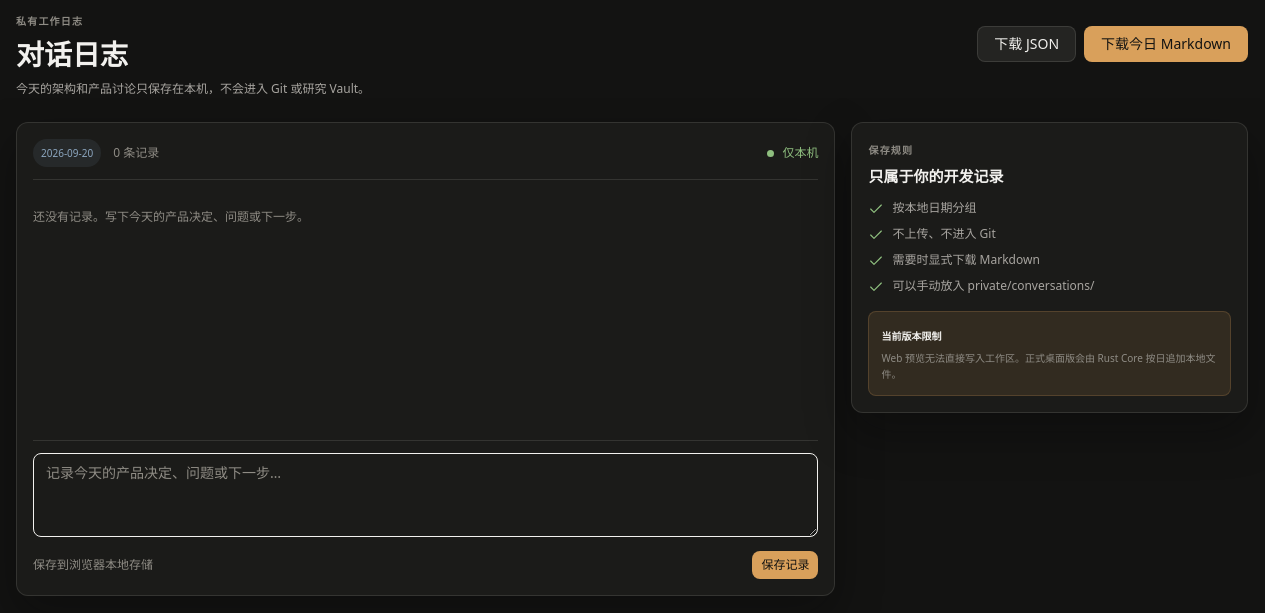
JournalPage › adds an entry through the form and updates the list
In the text box named "日志内容": (426, 495) [33,453,818,537], type "先做概览页"
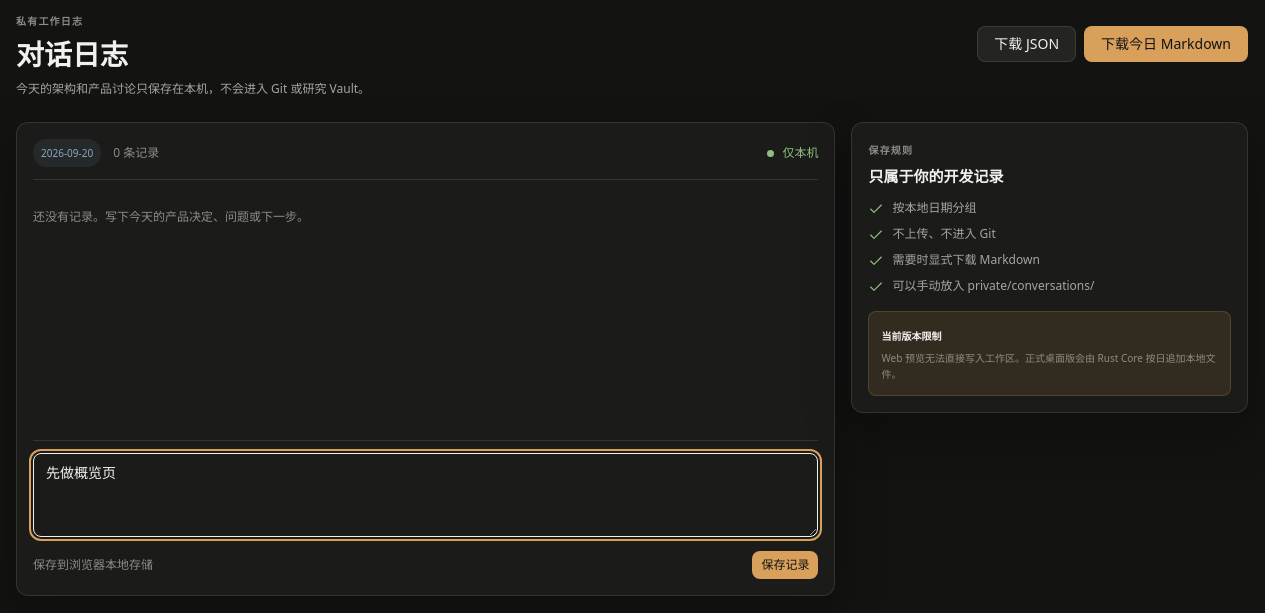
Click the button "保存记录": (786, 565) [752,551,818,579]
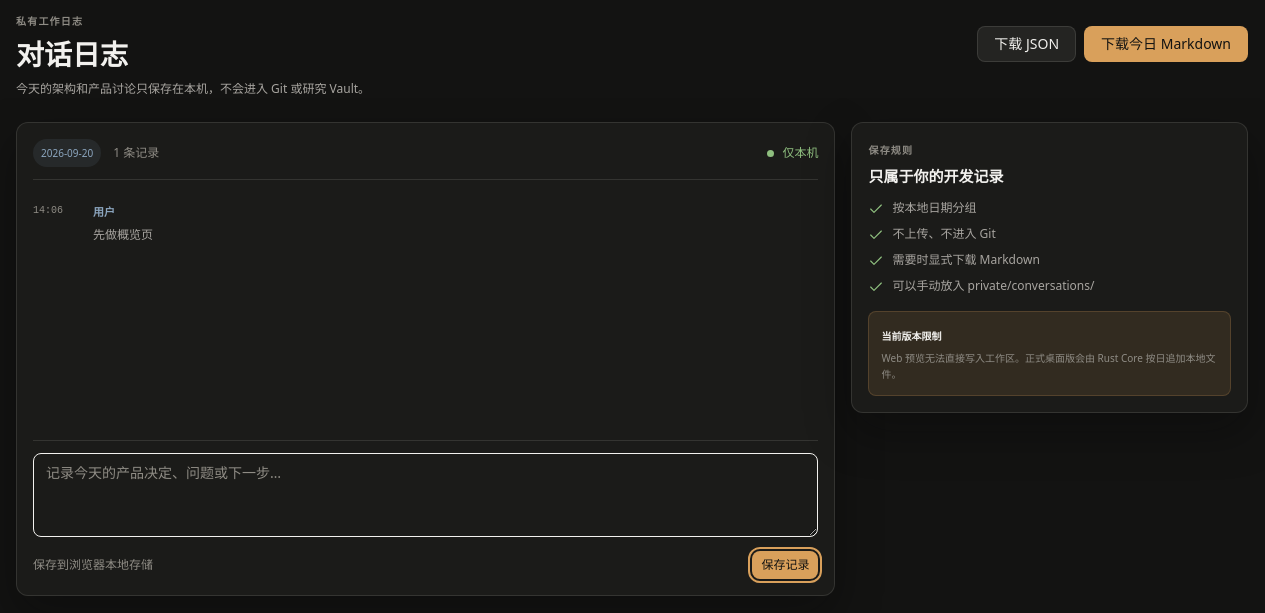
Now the text "1 条记录" is shown, box [113,144,159,162]
Now the text "先做概览页" is shown, box [93,226,153,243]
Now the text "用户" is shown, box [93,204,115,219]
